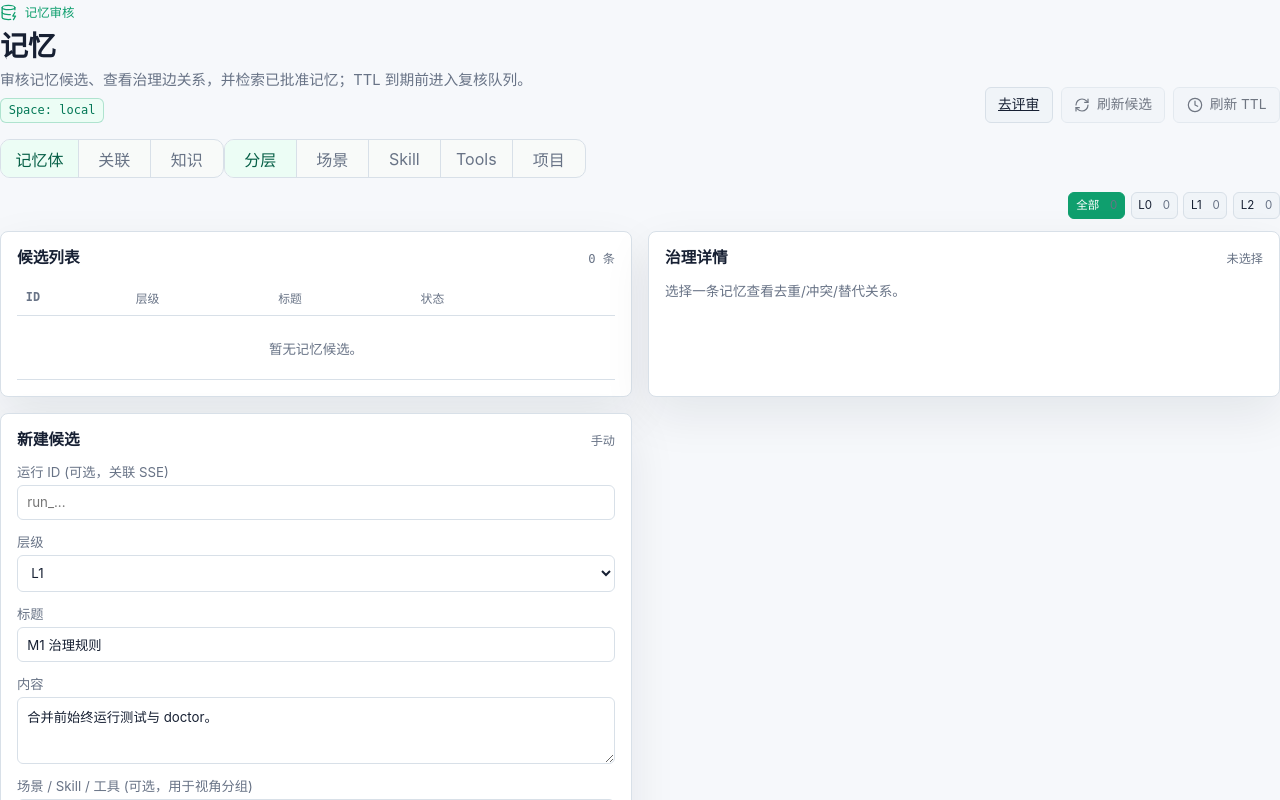
Scenario: MemoryPage › switches perspective and shows hint when fields are missing
The image size is (1280, 800).
expect the element with test id "memory-layer-filter" is shown: met, box [1068, 192, 1279, 219]
Click the button with test id "memory-perspective-skill" at (405, 159), box [369, 140, 441, 177]
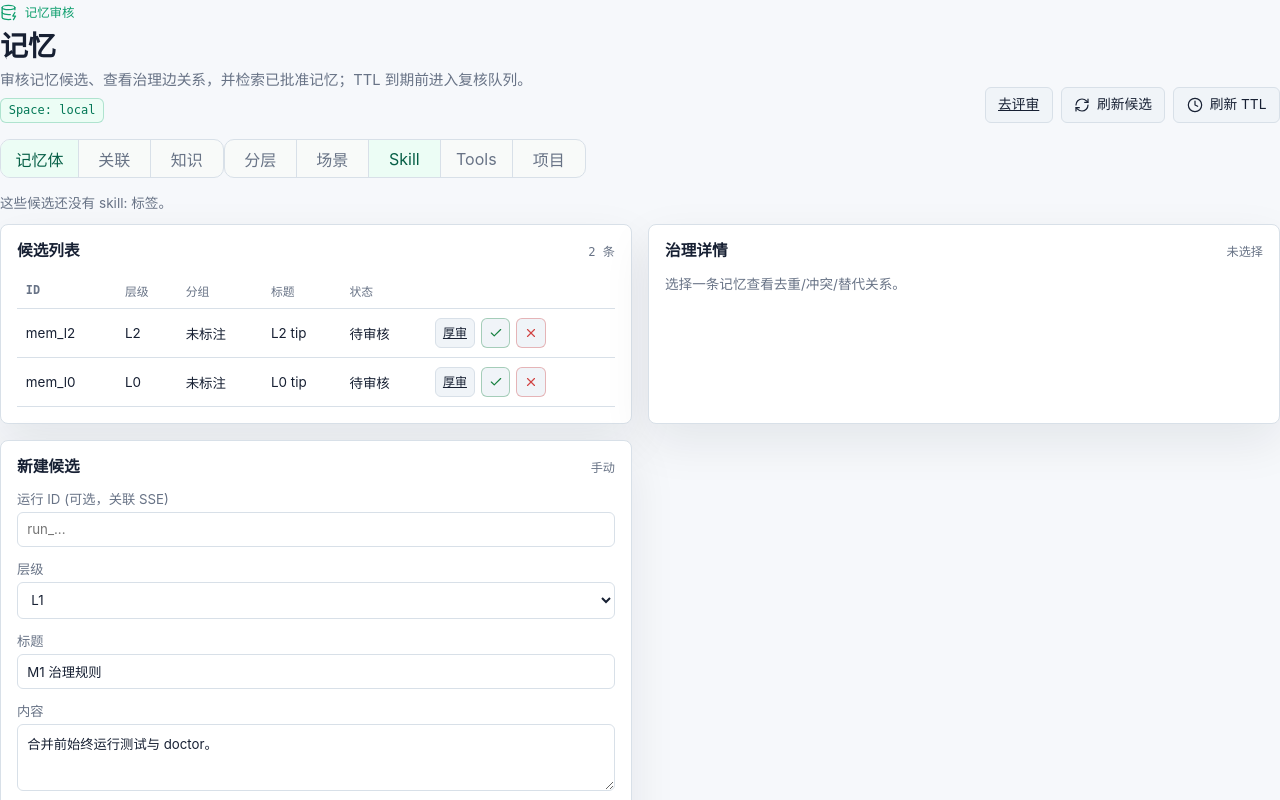
expect the text with test id "memory-perspective-hint" shows "skill": met, box [0, 195, 172, 211]
expect the element with test id "memory-layer-filter" is gone: met
